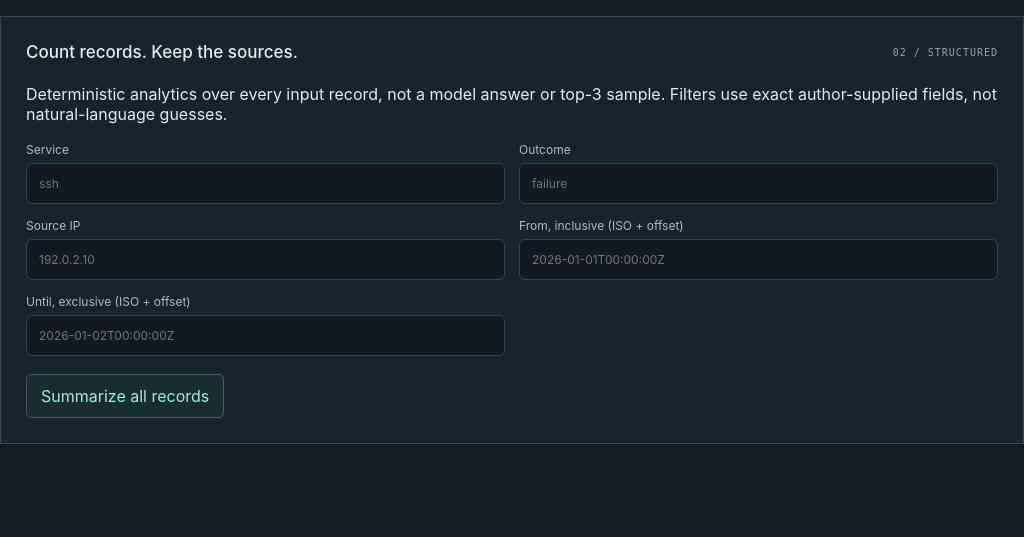
Test: shows invalid filter errors without invented counts
Click the button "Summarize all records" at point(125, 396), box [26, 374, 224, 418]
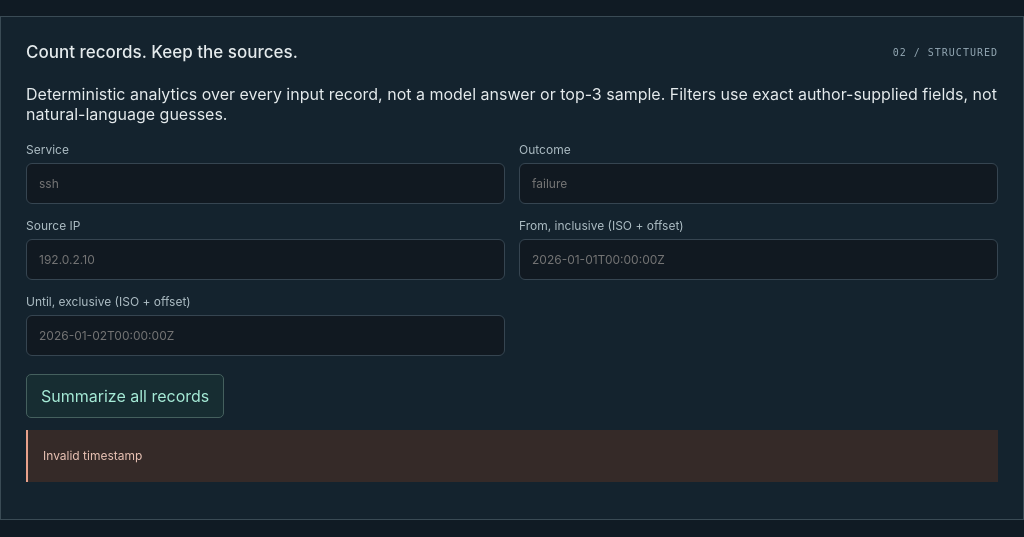
Result: the message reads "Invalid timestamp" at [43, 448, 142, 463]
